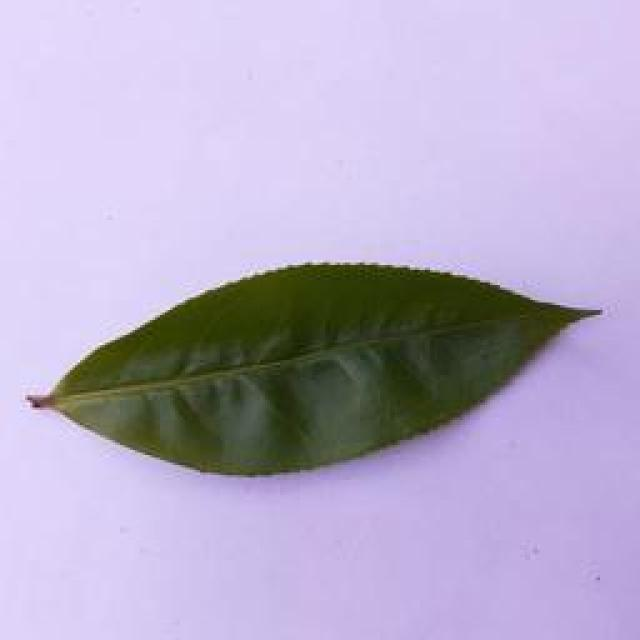Healthy: (26, 250, 618, 490)
